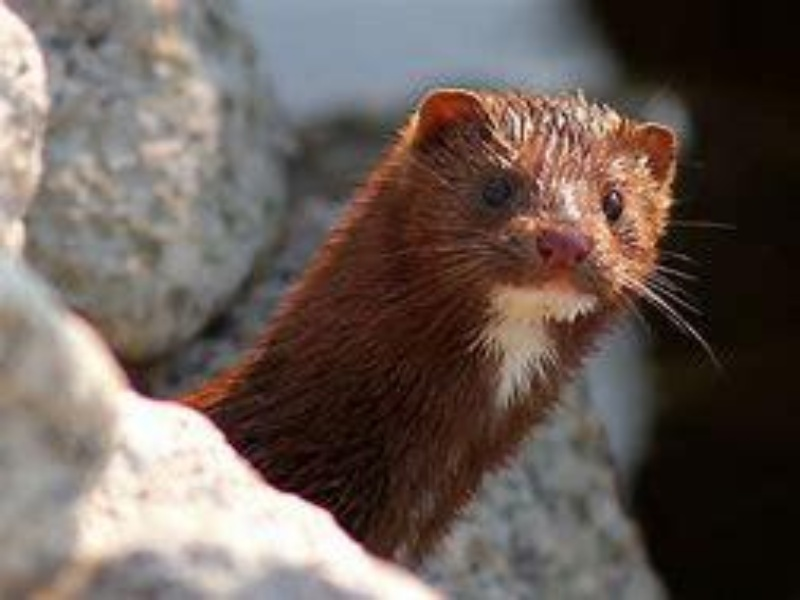minkish: (167, 78, 695, 565)
